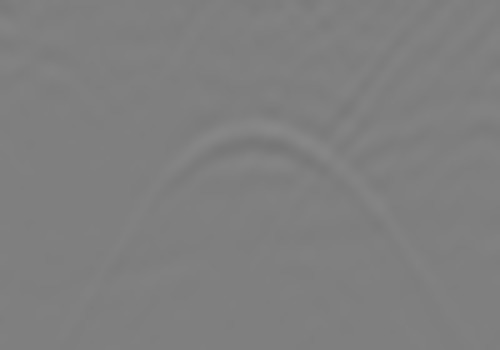hyperbola: (93, 116, 445, 307)
